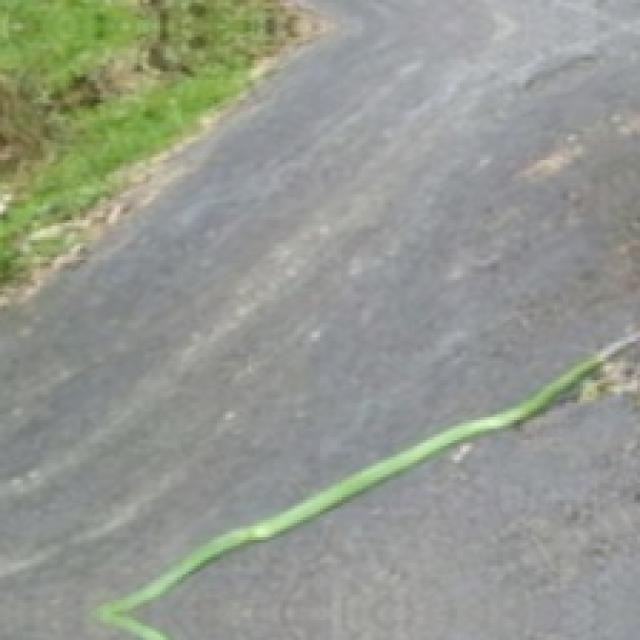red-tailed green ratsnake: (95, 332, 640, 640)
